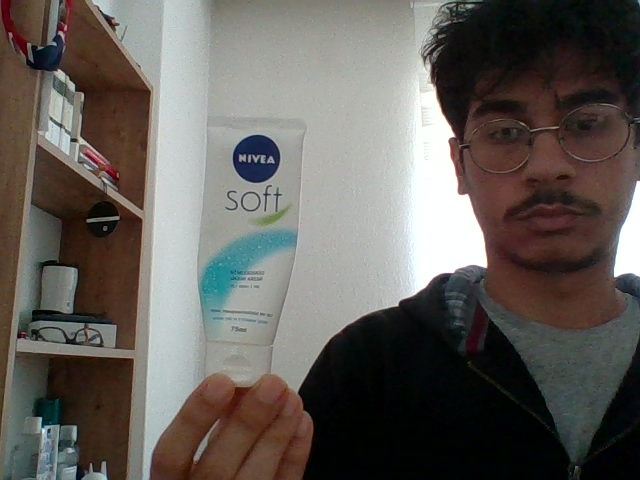NiveaSoft: (203, 116, 303, 362)
